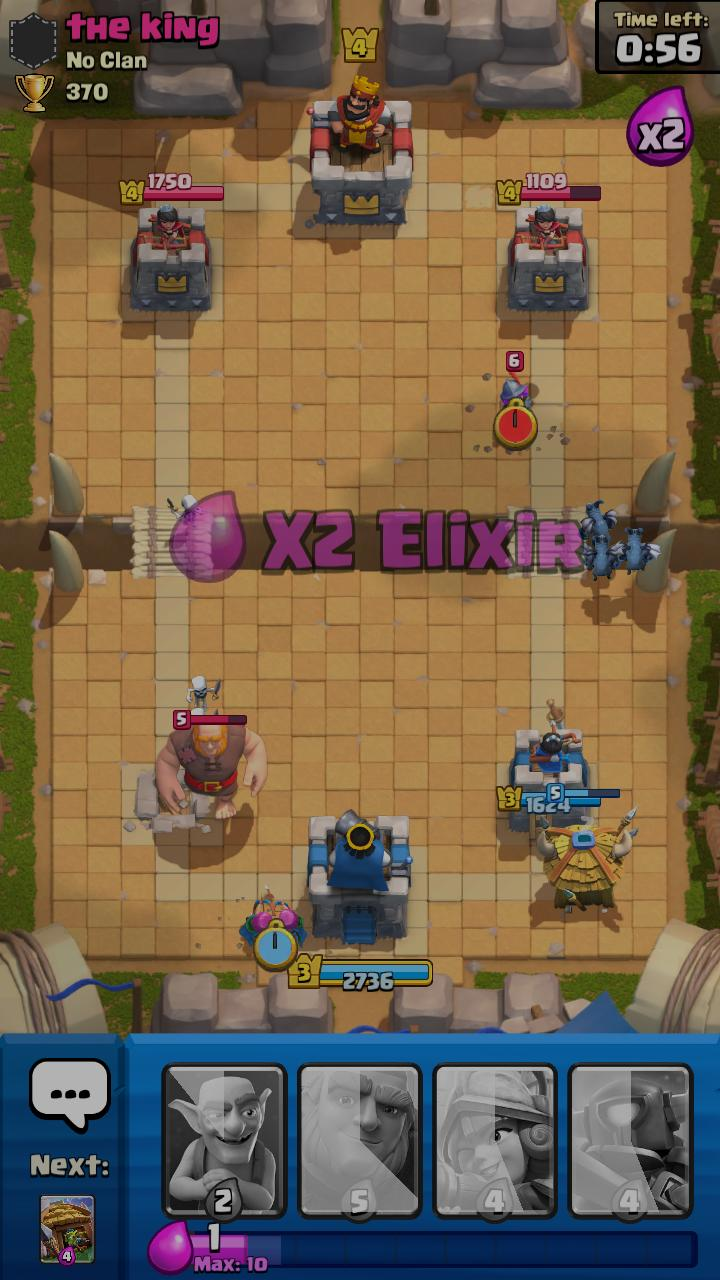ally: (536, 783, 639, 913), (579, 535, 626, 582), (618, 527, 662, 575), (239, 893, 276, 947), (272, 898, 308, 948), (578, 500, 617, 540), (186, 675, 221, 712), (167, 495, 203, 530), (191, 708, 219, 715)
enemy: (155, 710, 268, 820), (499, 351, 531, 409)
